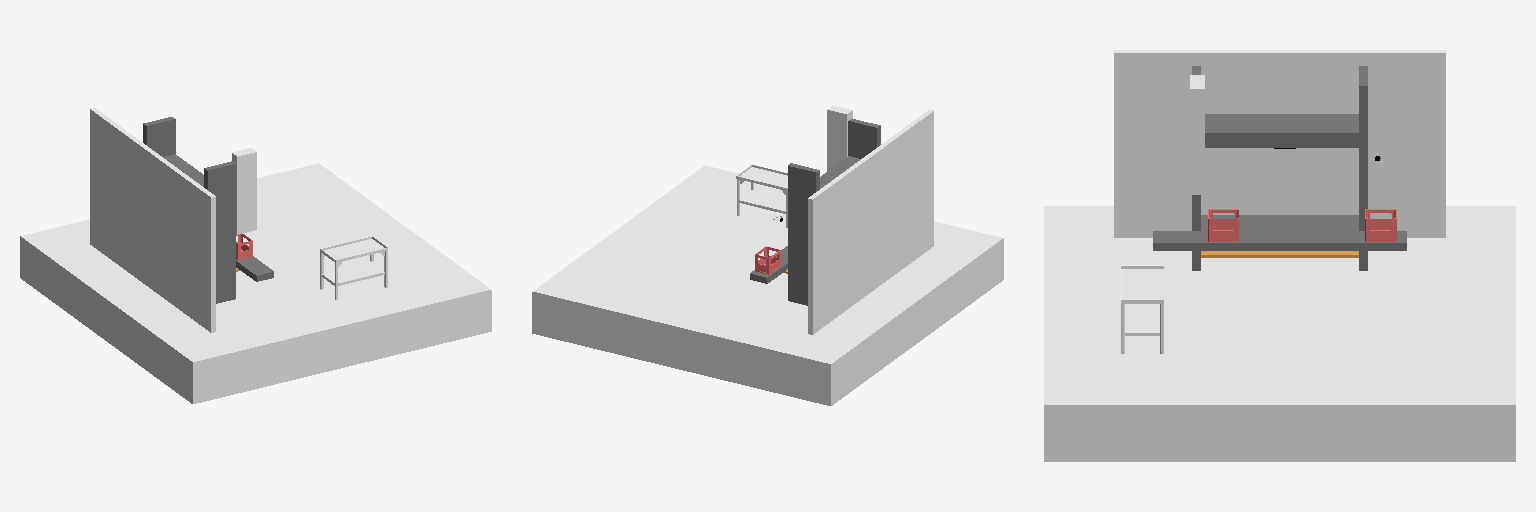
--- Render facts (derived) ---
3 views of the same robot in one strip: view 1: azimuth 30°, elevation 25°; view 2: azimuth 150°, elevation 25°; view 3: azimuth 270°, elevation 25° (orthographic).
Robot: sharework_cembre_simplified — 49 links, 48 joints (6 revolute, 42 fixed); root link world; default pose: every joint at zero.
Visible links, largest first — view 1: floor, wall, left_column, working_table_with_wheels_link, screwdriver_holder, right_column, rail; view 2: floor, wall, right_column, working_table_with_wheels_link, screwdriver_holder, left_column, human_box_link; view 3: floor, wall, rail, upper_beam, working_table_with_wheels_link, lower_beam, screwdriver_holder, right_column, table, guide_fixed, human_box_link, robot_box_link (+1 smaller).
Boxes of the visible links, x1,y1,x2,y2 form: floor: (20,163,491,403); wall: (90,107,215,332); left_column: (204,161,235,303); working_table_with_wheels_link: (320,236,387,299); screwdriver_holder: (232,148,256,234); right_column: (143,117,175,156); rail: (236,256,273,281); floor: (532,165,1003,405); wall: (808,109,933,334); right_column: (788,163,819,305); working_table_with_wheels_link: (736,165,787,227); screwdriver_holder: (827,106,852,170); left_column: (848,119,880,158); human_box_link: (755,246,780,274); floor: (1044,206,1515,461); wall: (1114,50,1445,237); rail: (1153,231,1406,250); upper_beam: (1205,114,1358,141); working_table_with_wheels_link: (1121,265,1163,353); lower_beam: (1201,215,1358,230); screwdriver_holder: (1190,75,1204,194); right_column: (1359,66,1367,270); table: (1201,251,1358,257); guide_fixed: (1205,142,1358,147); human_box_link: (1365,209,1396,241); robot_box_link: (1208,209,1238,241).
Bounding box of the posed robot: 6 × 6 × 3.56 m (x, y, z).
Meshes: 14 distinct files referenced, 3 mesh visuals loaded (2 binary STL); not drawn: 16 (reference not matched to a file when rendering).

The robot description file, URDF, robot "sharework_cembre_simplified":
<?xml version="1.0" ?>
<!-- =================================================================================== -->
<!-- |    This document was autogenerated by xacro from [local-path]/projects/cells_ws/src/hrc_case_study_cell/hrc_case_study/hrc_case_study_descriptions/urdf/sharework_cembre_simplified.xacro | -->
<!-- |    EDITING THIS FILE BY HAND IS NOT RECOMMENDED                                 | -->
<!-- =================================================================================== -->
<robot name="sharework_cembre_simplified">
    <material name="aluminum">
        <color rgba="0.5 0.5 0.5 1" />
    </material>
    <material name="plastic">
        <color rgba="0.1 0.1 0.1 1" />
    </material>
    <!-- <xacro:include filename="$(find robotiq_2f_85_gripper_visualization)/urdf/robotiq_arg2f_85_model_macro.xacro" /> -->
    <link name="world" />
    <joint name="base_to_right_leg" type="fixed">
        <parent link="world" />
        <child link="portal" />
        <origin xyz="0 0 0" />
    </joint>
    <!-- PORTAL -->
    <link name="portal" />
    <joint name="portal_to_right_column" type="fixed">
        <parent link="world" />
        <child link="right_column" />
        <origin xyz="-0.58 1.0 0" />
    </joint>
    <joint name="portal_to_left_column" type="fixed">
        <parent link="world" />
        <child link="left_column" />
        <origin xyz="-0.58 -1.0 0" />
    </joint>
    <link name="right_column">
        <visual>
            <origin rpy="0 0 0" xyz="0.29 0.06 1.5" />
            <geometry>
                <box size="0.58 0.12 3.0" />
            </geometry>
            <material name="Grey">
                <color rgba="0.517647058823529 0.529411764705882 0.537254901960784 1" />
            </material>
        </visual>
        <collision>
            <origin rpy="0 0 0" xyz="0.29 0.06 1.5" />
            <geometry>
                <box size="0.6599999999999999 0.2 3.0" />
            </geometry>
            <material name="Grey">
                <color rgba="0.517647058823529 0.529411764705882 0.537254901960784 1" />
            </material>
        </collision>
        <inertial>
            <mass value="0.1" />
            <origin xyz="0 0 0" rpy="0 0 0" />
            <inertia ixx="0.03" iyy="0.03" izz="0.03" ixy="0.0" ixz="0.0" iyz="0.0" />
        </inertial>
    </link>
    <link name="left_column">
        <visual>
            <origin rpy="0 0 0" xyz="0.29 -0.06 1.5" />
            <geometry>
                <box size="0.58 0.12 3.0" />
            </geometry>
            <material name="Grey">
                <color rgba="0.517647058823529 0.529411764705882 0.537254901960784 1" />
            </material>
        </visual>
        <collision>
            <origin rpy="0 0 0" xyz="0.29 -0.06 1.5" />
            <geometry>
                <box size="0.6599999999999999 0.2 3.0" />
            </geometry>
            <material name="Grey">
                <color rgba="0.517647058823529 0.529411764705882 0.537254901960784 1" />
            </material>
        </collision>
        <inertial>
            <mass value="0.1" />
            <origin xyz="0 0 0" rpy="0 0 0" />
            <inertia ixx="0.03" iyy="0.03" izz="0.03" ixy="0.0" ixz="0.0" iyz="0.0" />
        </inertial>
    </link>
    <joint name="portal_to_lower_beam" type="fixed">
        <parent link="world" />
        <child link="lower_beam" />
        <origin xyz="-0.58 0 0.895" />
    </joint>
    <link name="lower_beam">
        <visual>
            <origin rpy="0 0 0" xyz="0.29 0 -0.048" />
            <geometry>
                <box size="0.58 2.0 0.12" />
            </geometry>
            <material name="Grey">
                <color rgba="0.517647058823529 0.529411764705882 0.537254901960784 1" />
            </material>
        </visual>
        <collision>
            <origin rpy="0 0 0" xyz="0.29 0 -0.048" />
            <geometry>
                <box size="0.58 2.0 0.12" />
            </geometry>
            <material name="Grey">
                <color rgba="0.517647058823529 0.529411764705882 0.537254901960784 1" />
            </material>
        </collision>
        <inertial>
            <mass value="0.1" />
            <origin xyz="0 0 0" rpy="0 0 0" />
            <inertia ixx="0.03" iyy="0.03" izz="0.03" ixy="0.0" ixz="0.0" iyz="0.0" />
        </inertial>
    </link>
    <joint name="portal_to_upper_beam" type="fixed">
        <parent link="world" />
        <child link="upper_beam" />
        <origin xyz="-0.58 0 2.208" />
    </joint>
    <link name="upper_beam">
        <visual>
            <origin rpy="0 0 0" xyz="0.29 0 0.06" />
            <geometry>
                <box size="0.58 2.0 0.12" />
            </geometry>
            <material name="Grey">
                <color rgba="0.517647058823529 0.529411764705882 0.537254901960784 1" />
            </material>
        </visual>
        <collision>
            <origin rpy="0 0 0" xyz="0.29 0 0.06" />
            <geometry>
                <box size="0.58 2.0 0.12" />
            </geometry>
            <material name="Grey">
                <color rgba="0.517647058823529 0.529411764705882 0.537254901960784 1" />
            </material>
        </collision>
        <inertial>
            <mass value="0.1" />
            <origin xyz="0 0 0" rpy="0 0 0" />
            <inertia ixx="0.03" iyy="0.03" izz="0.03" ixy="0.0" ixz="0.0" iyz="0.0" />
        </inertial>
    </link>
    <!-- guide -->
    <joint name="upper_beam_guide" type="fixed">
        <parent link="upper_beam" />
        <child link="guide_fixed" />
        <origin xyz="0.325 -1.0 -0.14" />
    </joint>
    <link name="guide_fixed">
        <visual>
            <origin rpy="0 0 0" xyz="0 1.0 0.07" />
            <geometry>
                <box size="0.28 2.0 0.14" />
            </geometry>
            <material name="Grey">
                <color rgba="0.517647058823529 0.529411764705882 0.537254901960784 1" />
            </material>
        </visual>
        <collision>
            <origin rpy="0 0 0" xyz="0 1.0 0.07" />
            <geometry>
                <box size="0.5800000000000001 2.0 0.14" />
            </geometry>
            <material name="Grey">
                <color rgba="0.517647058823529 0.529411764705882 0.537254901960784 1" />
            </material>
        </collision>
        <inertial>
            <mass value="0.1" />
            <origin xyz="0 0 0" rpy="0 0 0" />
            <inertia ixx="0.03" iyy="0.03" izz="0.03" ixy="0.0" ixz="0.0" iyz="0.0" />
        </inertial>
    </link>
    <joint name="track_joint" type="fixed">
        <parent link="guide_fixed" />
        <child link="cursor" />
        <origin xyz="0 1.061 -0.01" />
        <limit effort="1000.0" lower="0" upper="1.4" velocity="0.5" />
        <axis xyz="0 1 0" />
    </joint>
    <link name="cursor">
        <visual>
            <origin rpy="0 0 0" xyz="0 0 0.005" />
            <geometry>
                <box size="0.28 0.28 0.01" />
            </geometry>
            <material name="DarkGrey">
                <color rgba="0.1 0.1 0.1 1" />
            </material>
        </visual>
        <collision>
            <origin rpy="0 0 0" xyz="0 0 0.005" />
            <geometry>
                <box size="0.28 0.28 0.01" />
            </geometry>
            <material name="DarkGrey">
                <color rgba="0.1 0.1 0.1 1" />
            </material>
        </collision>
        <inertial>
            <mass value="0.1" />
            <origin xyz="0 0 0" rpy="0 0 0" />
            <inertia ixx="0.03" iyy="0.03" izz="0.03" ixy="0.0" ixz="0.0" iyz="0.0" />
        </inertial>
    </link>
    <!-- TABLE -->
    <joint name="portal_to_table" type="fixed">
        <parent link="world" />
        <child link="table" />
        <origin xyz="0 -1.0 0.895" />
    </joint>
    <link name="table">
        <visual>
            <origin rpy="0 0 0" xyz="0.3 1.0 -0.02" />
            <geometry>
                <box size="0.6 2.0 0.04" />
            </geometry>
            <material name="Beech">
                <color rgba="0.952941176470588 0.694117647058823 0.392156862745098 1" />
            </material>
        </visual>
        <collision>
            <origin rpy="0 0 0" xyz="0.3 1.0 -0.02" />
            <geometry>
                <box size="0.6 2.0 0.04" />
            </geometry>
            <material name="Beech">
                <color rgba="0.952941176470588 0.694117647058823 0.392156862745098 1" />
            </material>
        </collision>
        <inertial>
            <mass value="0.1" />
            <origin xyz="0 0 0" rpy="0 0 0" />
            <inertia ixx="0.03" iyy="0.03" izz="0.03" ixy="0.0" ixz="0.0" iyz="0.0" />
        </inertial>
    </link>
    <joint name="table_to_rail" type="fixed">
        <parent link="table" />
        <child link="rail" />
        <origin xyz="0.3 -0.6120000000000001 0.12" />
    </joint>
    <link name="rail">
        <visual>
            <origin rpy="0 0 0" xyz="0 1.612 -0.06" />
            <geometry>
                <box size="0.36 3.224 0.12" />
            </geometry>
            <material name="Grey">
                <color rgba="0.517647058823529 0.529411764705882 0.537254901960784 1" />
            </material>
        </visual>
        <collision>
            <origin rpy="0 0 0" xyz="0 1.612 -0.06" />
            <geometry>
                <box size="0.36 3.224 0.12" />
            </geometry>
            <material name="Grey">
                <color rgba="0.517647058823529 0.529411764705882 0.537254901960784 1" />
            </material>
        </collision>
        <inertial>
            <mass value="0.1" />
            <origin xyz="0 0 0" rpy="0 0 0" />
            <inertia ixx="0.03" iyy="0.03" izz="0.03" ixy="0.0" ixz="0.0" iyz="0.0" />
        </inertial>
    </link>
    <!--
    Base UR robot series xacro macro.

    NOTE: this is NOT a URDF. It cannot directly be loaded by consumers
    expecting a flattened '.urdf' file. See the top-level '.xacro' for that
    (but note: that .xacro must still be processed by the xacro command).

    For use in '.launch' files: use one of the 'load_urX.launch' convenience
    launch files.

    This file models the base kinematic chain of a UR robot, which then gets
    parameterised by various configuration files to convert it into a UR3(e),
    UR5(e), UR10(e) or UR16e.

    NOTE: the default kinematic parameters (ie: link lengths, frame locations,
    offets, etc) do not correspond to any particular robot. They are defaults
    only. There WILL be non-zero offsets between the Forward Kinematics results
    in TF (ie: robot_state_publisher) and the values reported by the Teach
    Pendant.

    For accurate (and robot-specific) transforms, the 'kinematics_parameters_file'
    parameter MUST point to a .yaml file containing the appropriate values for
    the targetted robot.

    If using the UniversalRobots/Universal_Robots_ROS_Driver, follow the steps
    described in the readme of that repository to extract the kinematic
    calibration from the controller and generate the required .yaml file.

    Main author of the migration to yaml configs: Ludovic Delval.

    Contributors to previous versions (in no particular order):

     - Felix Messmer
     - Kelsey Hawkins
     - Wim Meeussen
     - Shaun Edwards
     - Nadia Hammoudeh Garcia
     - Dave Hershberger
     - G. vd. Hoorn
     - Philip Long
     - Dave Coleman
     - Miguel Prada
     - Mathias Luedtke
     - Marcel Schnirring
     - Felix von Drigalski
     - Felix Exner
     - Jimmy Da Silva
     - Ajit Krisshna N L
     - Muhammad Asif Rana
  -->
    <!--
    NOTE: the macro defined in this file is NOT part of the public API of this
          package. Users CANNOT rely on this file being available, or stored in
          this location. Nor can they rely on the existence of the macro.
  -->
    <transmission name="shoulder_pan_trans">
        <type>transmission_interface/SimpleTransmission</type>
        <joint name="shoulder_pan_joint">
            <hardwareInterface>hardware_interface/PositionJointInterface</hardwareInterface>
        </joint>
        <actuator name="shoulder_pan_motor">
            <mechanicalReduction>1</mechanicalReduction>
            <hardwareInterface>hardware_interface/EffortJointInterface</hardwareInterface>
        </actuator>
    </transmission>
    <transmission name="shoulder_lift_trans">
        <type>transmission_interface/SimpleTransmission</type>
        <joint name="shoulder_lift_joint">
            <hardwareInterface>hardware_interface/PositionJointInterface</hardwareInterface>
        </joint>
        <actuator name="shoulder_lift_motor">
            <mechanicalReduction>1</mechanicalReduction>
            <hardwareInterface>hardware_interface/EffortJointInterface</hardwareInterface>
        </actuator>
    </transmission>
    <transmission name="elbow_trans">
        <type>transmission_interface/SimpleTransmission</type>
        <joint name="elbow_joint">
            <hardwareInterface>hardware_interface/PositionJointInterface</hardwareInterface>
        </joint>
        <actuator name="elbow_motor">
            <mechanicalReduction>1</mechanicalReduction>
            <hardwareInterface>hardware_interface/EffortJointInterface</hardwareInterface>
        </actuator>
    </transmission>
    <transmission name="wrist_1_trans">
        <type>transmission_interface/SimpleTransmission</type>
        <joint name="wrist_1_joint">
            <hardwareInterface>hardware_interface/PositionJointInterface</hardwareInterface>
        </joint>
        <actuator name="wrist_1_motor">
            <mechanicalReduction>1</mechanicalReduction>
            <hardwareInterface>hardware_interface/EffortJointInterface</hardwareInterface>
        </actuator>
    </transmission>
    <transmission name="wrist_2_trans">
        <type>transmission_interface/SimpleTransmission</type>
        <joint name="wrist_2_joint">
            <hardwareInterface>hardware_interface/PositionJointInterface</hardwareInterface>
        </joint>
        <actuator name="wrist_2_motor">
            <mechanicalReduction>1</mechanicalReduction>
            <hardwareInterface>hardware_interface/EffortJointInterface</hardwareInterface>
        </actuator>
    </transmission>
    <transmission name="wrist_3_trans">
        <type>transmission_interface/SimpleTransmission</type>
        <joint name="wrist_3_joint">
            <hardwareInterface>hardware_interface/PositionJointInterface</hardwareInterface>
        </joint>
        <actuator name="wrist_3_motor">
            <mechanicalReduction>1</mechanicalReduction>
            <hardwareInterface>hardware_interface/EffortJointInterface</hardwareInterface>
        </actuator>
    </transmission>
    <!-- links: main serial chain -->
    <link name="base_link" />
    <link name="base_link_inertia">
        <visual>
            <origin rpy="0 0 3.141592653589793" xyz="0 0 0" />
            <geometry>
                <mesh filename="package://ur_description/meshes/ur10e/visual/base.dae" />
            </geometry>
            <material name="LightGrey">
                <color rgba="0.7 0.7 0.7 1.0" />
            </material>
        </visual>
        <collision>
            <origin rpy="0 0 3.141592653589793" xyz="0 0 0" />
            <geometry>
                <mesh filename="package://ur_simplified_description/meshes/ur10e/collision/base.STL" />
            </geometry>
        </collision>
        <inertial>
            <mass value="4.0" />
            <origin rpy="0 0 0" xyz="0 0 0" />
            <inertia ixx="0.0061063308908" ixy="0.0" ixz="0.0" iyy="0.0061063308908" iyz="0.0" izz="0.01125" />
        </inertial>
    </link>
    <link name="shoulder_link">
        <visual>
            <origin rpy="0 0 3.141592653589793" xyz="0 0 0" />
            <geometry>
                <mesh filename="package://ur_description/meshes/ur10e/visual/shoulder.dae" />
            </geometry>
            <material name="LightGrey">
                <color rgba="0.7 0.7 0.7 1.0" />
            </material>
        </visual>
        <collision>
            <origin rpy="0 0 3.141592653589793" xyz="0 0 0" />
            <geometry>
                <mesh filename="package://ur_simplified_description/meshes/ur10e/collision/shoulder.STL" />
            </geometry>
        </collision>
        <inertial>
            <mass value="7.778" />
            <origin rpy="0 0 0" xyz="0 0 0" />
            <inertia ixx="0.03147431257693659" ixy="0.0" ixz="0.0" iyy="0.03147431257693659" iyz="0.0" izz="0.021875624999999996" />
        </inertial>
    </link>
    <link name="upper_arm_link">
        <visual>
            <origin rpy="1.5707963267948966 0 -1.5707963267948966" xyz="0 0 0.1762" />
            <geometry>
                <mesh filename="package://ur_description/meshes/ur10e/visual/upperarm.dae" />
            </geometry>
            <material name="LightGrey">
                <color rgba="0.7 0.7 0.7 1.0" />
            </material>
        </visual>
        <collision>
            <origin rpy="1.5707963267948966 0 -1.5707963267948966" xyz="0 0 0.1762" />
            <geometry>
                <mesh filename="package://ur_simplified_description/meshes/ur10e/collision/upperarm.STL" />
            </geometry>
        </collision>
        <inertial>
            <mass value="12.93" />
            <origin rpy="0 1.5707963267948966 0" xyz="-0.306 0.0 0.175" />
            <inertia ixx="0.42175380379841093" ixy="0.0" ixz="0.0" iyy="0.42175380379841093" iyz="0.0" izz="0.03636562499999999" />
        </inertial>
    </link>
    <link name="forearm_link">
        <visual>
            <origin rpy="1.5707963267948966 0 -1.5707963267948966" xyz="0 0 0.0393" />
            <geometry>
                <mesh filename="package://ur_description/meshes/ur10e/visual/forearm.dae" />
            </geometry>
            <material name="LightGrey">
                <color rgba="0.7 0.7 0.7 1.0" />
            </material>
        </visual>
        <collision>
            <origin rpy="1.5707963267948966 0 -1.5707963267948966" xyz="0 0 0.0393" />
            <geometry>
                <mesh filename="package://ur_simplified_description/meshes/ur10e/collision/forearm.STL" />
            </geometry>
        </collision>
        <inertial>
            <mass value="3.87" />
            <origin rpy="0 1.5707963267948966 0" xyz="-0.285775 0.0 0.0393" />
            <inertia ixx="0.11079302548902206" ixy="0.0" ixz="0.0" iyy="0.11079302548902206" iyz="0.0" izz="0.010884375" />
        </inertial>
    </link>
    <link name="wrist_1_link">
        <visual>
            <!-- TODO: Move this to a parameter -->
            <origin rpy="1.5707963267948966 0 0" xyz="0 0 -0.135" />
            <geometry>
                <mesh filename="package://ur_description/meshes/ur10e/visual/wrist1.dae" />
            </geometry>
            <material name="LightGrey">
                <color rgba="0.7 0.7 0.7 1.0" />
            </material>
        </visual>
        <collision>
            <origin rpy="1.5707963267948966 0 0" xyz="0 0 -0.135" />
            <geometry>
                <mesh filename="package://ur_simplified_description/meshes/ur10e/collision/wrist1.STL" />
            </geometry>
        </collision>
        <inertial>
            <mass value="1.96" />
            <origin rpy="0 0 0" xyz="0 0 0" />
            <inertia ixx="0.005108247956699999" ixy="0.0" ixz="0.0" iyy="0.005108247956699999" iyz="0.0" izz="0.005512499999999999" />
        </inertial>
    </link>
    <link name="wrist_2_link">
        <visual>
            <origin rpy="0 0 0" xyz="0 0 -0.12" />
            <geometry>
                <mesh filename="package://ur_description/meshes/ur10e/visual/wrist2.dae" />
            </geometry>
            <material name="LightGrey">
                <color rgba="0.7 0.7 0.7 1.0" />
            </material>
        </visual>
        <collision>
            <origin rpy="0 0 0" xyz="0 0 -0.12" />
            <geometry>
                <mesh filename="package://ur_simplified_description/meshes/ur10e/collision/wrist2.STL" />
            </geometry>
        </collision>
        <inertial>
            <mass value="1.96" />
            <origin rpy="0 0 0" xyz="0 0 0" />
            <inertia ixx="0.005108247956699999" ixy="0.0" ixz="0.0" iyy="0.005108247956699999" iyz="0.0" izz="0.005512499999999999" />
        </inertial>
    </link>
    <link name="wrist_3_link">
        <visual>
            <origin rpy="1.5707963267948966 0 0" xyz="0 0 -0.1168" />
            <geometry>
                <mesh filename="package://ur_description/meshes/ur10e/visual/wrist3.dae" />
            </geometry>
            <material name="LightGrey">
                <color rgba="0.7 0.7 0.7 1.0" />
            </material>
        </visual>
        <collision>
            <origin rpy="1.5707963267948966 0 0" xyz="0 0 -0.1168" />
            <geometry>
                <mesh filename="package://ur_simplified_description/meshes/ur10e/collision/wrist3.STL" />
            </geometry>
        </collision>
        <inertial>
            <mass value="0.202" />
            <origin rpy="0 0 0" xyz="0.0 0.0 -0.025" />
            <inertia ixx="0.00014434577559500002" ixy="0.0" ixz="0.0" iyy="0.00014434577559500002" iyz="0.0" izz="0.00020452500000000002" />
        </inertial>
    </link>
    <!-- joints: main serial chain -->
    <joint name="base_link-base_link_inertia" type="fixed">
        <parent link="base_link" />
        <child link="base_link_inertia" />
        <!-- 'base_link' is REP-103 aligned (so X+ forward), while the internal
           frames of the robot/controller have X+ pointing backwards.
           Use the joint between 'base_link' and 'base_link_inertia' (a dummy
           link/frame) to introduce the necessary rotation over Z (of pi rad).
      -->
        <origin rpy="0 0 3.141592653589793" xyz="0 0 0" />
    </joint>
    <joint name="shoulder_pan_joint" type="revolute">
        <parent link="base_link_inertia" />
        <child link="shoulder_link" />
        <origin rpy="0 0 -5.681537116101164e-08" xyz="0 0 0.1812369595612139" />
        <axis xyz="0 0 1" />
        <limit effort="330.0" lower="-3.141592653589793" upper="3.141592653589793" velocity="2.0943951023931953" />
        <dynamics damping="0" friction="0" />
    </joint>
    <joint name="shoulder_lift_joint" type="revolute">
        <parent link="shoulder_link" />
        <child link="upper_arm_link" />
        <origin rpy="1.571234322931965 0 -2.65322894683893e-06" xyz="-8.792654051589253e-05 0 0" />
        <axis xyz="0 0 1" />
        <limit effort="330.0" lower="-3.141592653589793" upper="0.05235987755982989" velocity="2.0943951023931953" />
        <dynamics damping="0" friction="0" />
    </joint>
    <joint name="elbow_joint" type="revolute">
        <parent link="upper_arm_link" />
        <child link="forearm_link" />
        <origin rpy="0.0006685683672481053 0.0009626857853689462 2.732284048217955e-06" xyz="-0.6121801947349813 0 0" />
        <axis xyz="0 0 1" />
        <limit effort="150.0" lower="-3.141592653589793" upper="3.141592653589793" velocity="3.141592653589793" />
        <dynamics damping="0" friction="0" />
    </joint>
    <joint name="wrist_1_joint" type="revolute">
        <parent link="forearm_link" />
        <child link="wrist_1_link" />
        <origin rpy="3.139891413463903 3.140677396542519 3.141591156697404" xyz="-0.5709010104944168 0.0002966689356048516 0.1743837597536871" />
        <axis xyz="0 0 1" />
        <limit effort="56.0" lower="-6.283185307179586" upper="6.283185307179586" velocity="3.141592653589793" />
        <dynamics damping="0" friction="0" />
    </joint>
    <joint name="wrist_2_joint" type="revolute">
        <parent link="wrist_1_link" />
        <child link="wrist_2_link" />
        <origin rpy="1.57098614732238 0 1.097571004999014e-06" xyz="4.867185823864961e-05 -0.1198472927249651 -2.274947659575111e-05" />
        <axis xyz="0 0 1" />
        <limit effort="56.0" lower="-6.283185307179586" upper="6.283185307179586" velocity="3.141592653589793" />
        <dynamics damping="0" friction="0" />
    </joint>
    <joint name="wrist_3_joint" type="revolute">
        <parent link="wrist_2_link" />
        <child link="wrist_3_link" />
        <origin rpy="1.57076096219631 3.141592653589793 3.141592581057134" xyz="-0.0001284994478715255 0.1156303551619035 -4.089221096405905e-06" />
        <axis xyz="0 0 1" />
        <limit effort="56.0" lower="-6.283185307179586" upper="6.283185307179586" velocity="3.141592653589793" />
        <dynamics damping="0" friction="0" />
    </joint>
    <!-- ROS-Industrial 'base' frame: base_link to UR 'Base' Coordinates transform -->
    <link name="base" />
    <joint name="base_link-base_fixed_joint" type="fixed">
        <!-- Note the rotation over Z of pi radians: as base_link is REP-103
           aligned (ie: has X+ forward, Y+ left and Z+ up), this is needed
           to correctly align 'base' with the 'Base' coordinate system of
           the UR controller.
      -->
        <origin rpy="0 0 3.141592653589793" xyz="0 0 0" />
        <parent link="base_link" />
        <child link="base" />
    </joint>
    <!-- ROS-Industrial 'flange' frame: attachment point for EEF models -->
    <link name="flange" />
    <joint name="wrist_3-flange" type="fixed">
        <parent link="wrist_3_link" />
        <child link="flange" />
        <origin rpy="0 -1.5707963267948966 -1.5707963267948966" xyz="0 0 0" />
    </joint>
    <!-- ROS-Industrial 'tool0' frame: all-zeros tool frame -->
    <link name="tool0" />
    <joint name="flange-tool0" type="fixed">
        <!-- default toolframe: X+ left, Y+ up, Z+ front -->
        <origin rpy="1.5707963267948966 0 1.5707963267948966" xyz="0 0 0" />
        <parent link="flange" />
        <child link="tool0" />
    </joint>
    <link name="robotiq_arg2f_base_link">
        <!-- <inertial>
        <origin xyz="8.625E-08 -4.6583E-06 0.03145" rpy="0 0 0" />
        <mass value="0.22652" />
        <inertia ixx="0.00020005" ixy="-4.2442E-10" ixz="-2.9069E-10" iyy="0.00017832" iyz="-3.4402E-08" izz="0.00013478" />
      </inertial> -->
        <visual>
            <origin rpy="0 0 0" xyz="0 0 0" />
            <geometry>
                <mesh filename="package://robotiq_2f_85_gripper_visualization/meshes/visual/robotiq_arg2f_85_base_link.dae" scale="0.001 0.001 0.001" />
            </geometry>
            <material name="">
                <color rgba="0.1 0.1 0.1 1" />
            </material>
        </visual>
        <!-- <collision>
        <geometry>
          <cylinder length="0.0" radius="0.0"/>         
        </geometry>
      </collision> -->
    </link>
    <link name="left_outer_knuckle">
        <!--<inertial>
        <origin xyz="-0.000200000000003065 0.0199435877845359 0.0292245259211331" rpy="0 0 0" />
        <mass value="0.00853198276973456" />
        <inertia ixx="2.89328108496468E-06" ixy="-1.57935047237397E-19" ixz="-1.93980378593255E-19" iyy="1.86719750325683E-06" iyz="-1.21858577871576E-06" izz="1.21905238907251E-06" />
        </inertial> -->
        <visual>
            <origin rpy="0 0 0" xyz="0 0 0" />
            <geometry>
                <mesh filename="package://robotiq_2f_85_gripper_visualization/meshes/visual/robotiq_arg2f_85_outer_knuckle.dae" scale="0.001 0.001 0.001" />
            </geometry>
            <material name="">
                <color rgba="0.792156862745098 0.819607843137255 0.933333333333333 1" />
            </material>
        </visual>
        <!-- <collision>
        <geometry>
          <cylinder length="0.0" radius="0.0"/>          
            <cylinder length="0.0" radius="0.0"/>         
        </geometry>
      </collision> -->
    </link>
    <link name="left_outer_finger">
        <!--<inertial>
        <origin xyz="0.00030115855001899 0.0373907951953854 -0.0208027427000385" rpy="0 0 0" />
        <mass value="0.022614240507152" />
        <inertia ixx="1.52518312458174E-05" ixy="9.76583423954399E-10" ixz="-5.43838577022588E-10" iyy="6.17694243867776E-06" iyz="6.78636130740228E-06" izz="1.16494917907219E-05" />
        </inertial> -->
        <visual>
            <origin rpy="0 0 0" xyz="0 0 0" />
            <geometry>
                <mesh filename="package://robotiq_2f_85_gripper_visualization/meshes/visual/robotiq_arg2f_85_outer_finger.dae" scale="0.001 0.001 0.001" />
            </geometry>
            <material name="">
                <color rgba="0.1 0.1 0.1 1" />
            </material>
        </visual>
        <!-- <collision>
        <geometry>
            <cylinder length="0.0" radius="0.0"/>        
        </geometry>
      </collision> -->
    </link>
    <link name="left_inner_finger">
        <!--<inertial>
        <origin xyz="0.000299999999999317 0.0160078233491243 -0.0136945669206257" rpy="0 0 0" />
        <mass value="0.0104003125914103" />
        <inertia ixx="2.71909453810972E-06" ixy="1.35402465472579E-21" ixz="-7.1817349065269E-22" iyy="7.69100314106116E-07" iyz="6.74715432769696E-07" izz="2.30315190420171E-06" />
        </inertial> -->
        <visual>
            <origin rpy="0 0 0" xyz="0 0 0" />
            <geometry>
                <mesh filename="package://robotiq_2f_85_gripper_visualization/meshes/visual/robotiq_arg2f_85_inner_finger.dae" scale="0.001 0.001 0.001" />
            </geometry>
            <material name="">
                <color rgba="0.1 0.1 0.1 1" />
            </material>
        </visual>
        <!-- <collision>
        <geometry>
          <cylinder length="0.0" radius="0.0"/>         
        </geometry>
      </collision> -->
    </link>
    <link name="left_inner_finger_pad">
        <visual>
            <origin rpy="0 0 0" xyz="0 0 0" />
            <geometry>
                <box size="0.022 0.00635 0.0375" />
            </geometry>
            <material name="">
                <color rgba="0.9 0.9 0.9 1" />
            </material>
        </visual>
        <!-- <collision>
        <geometry>
          <cylinder length="0.0" radius="0.0"/>      
        </geometry>
      </collision> -->
    </link>
    <link name="left_inner_knuckle">
        <!--<inertial>
        <origin xyz="0.000123011831763771 0.0507850843201817 0.00103968640075166" rpy="0 0 0" />
       <mass value="0.0271177346495152" />
        <inertia ixx="2.61910379223783E-05" ixy="-2.43616858946494E-07" ixz="-6.37789906117123E-09" iyy="2.8270243746167E-06" iyz="-5.37200748039765E-07" izz="2.83695868220296E-05" />
        </inertial> -->
        <visual>
            <origin rpy="0 0 0" xyz="0 0 0" />
            <geometry>
                <mesh filename="package://robotiq_2f_85_gripper_visualization/meshes/visual/robotiq_arg2f_85_inner_knuckle.dae" scale="0.001 0.001 0.001" />
            </geometry>
            <material name="">
                <color rgba="0.1 0.1 0.1 1" />
            </material>
        </visual>
        <!-- <collision>
        <geometry>
          <cylinder length="0.0" radius="0.0"/>         
        </geometry>
      </collision>  -->
    </link>
    <link name="right_outer_knuckle">
        <!--<inertial>
        <origin xyz="-0.000200000000003065 0.0199435877845359 0.0292245259211331" rpy="0 0 0" />
        <mass value="0.00853198276973456" />
        <inertia ixx="2.89328108496468E-06" ixy="-1.57935047237397E-19" ixz="-1.93980378593255E-19" iyy="1.86719750325683E-06" iyz="-1.21858577871576E-06" izz="1.21905238907251E-06" />
        </inertial> -->
        <visual>
            <origin rpy="0 0 0" xyz="0 0 0" />
            <geometry>
                <mesh filename="package://robotiq_2f_85_gripper_visualization/meshes/visual/robotiq_arg2f_85_outer_knuckle.dae" scale="0.001 0.001 0.001" />
            </geometry>
            <material name="">
                <color rgba="0.792156862745098 0.819607843137255 0.933333333333333 1" />
            </material>
        </visual>
        <!-- <collision>
        <geometry>
          <cylinder length="0.0" radius="0.0"/>          
            <cylinder length="0.0" radius="0.0"/>         
        </geometry>
      </collision> -->
    </link>
    <link name="right_outer_finger">
        <!--<inertial>
        <origin xyz="0.00030115855001899 0.0373907951953854 -0.0208027427000385" rpy="0 0 0" />
        <mass value="0.022614240507152" />
        <inertia ixx="1.52518312458174E-05" ixy="9.76583423954399E-10" ixz="-5.43838577022588E-10" iyy="6.17694243867776E-06" iyz="6.78636130740228E-06" izz="1.16494917907219E-05" />
        </inertial> -->
        <visual>
            <origin rpy="0 0 0" xyz="0 0 0" />
            <geometry>
                <mesh filename="package://robotiq_2f_85_gripper_visualization/meshes/visual/robotiq_arg2f_85_outer_finger.dae" scale="0.001 0.001 0.001" />
            </geometry>
            <material name="">
                <color rgba="0.1 0.1 0.1 1" />
            </material>
        </visual>
        <!-- <collision>
        <geometry>
            <cylinder length="0.0" radius="0.0"/>        
        </geometry>
      </collision> -->
    </link>
    <link name="right_inner_finger">
        <!--<inertial>
        <origin xyz="0.000299999999999317 0.0160078233491243 -0.0136945669206257" rpy="0 0 0" />
        <mass value="0.0104003125914103" />
        <inertia ixx="2.71909453810972E-06" ixy="1.35402465472579E-21" ixz="-7.1817349065269E-22" iyy="7.69100314106116E-07" iyz="6.74715432769696E-07" izz="2.30315190420171E-06" />
        </inertial> -->
        <visual>
            <origin rpy="0 0 0" xyz="0 0 0" />
            <geometry>
                <mesh filename="package://robotiq_2f_85_gripper_visualization/meshes/visual/robotiq_arg2f_85_inner_finger.dae" scale="0.001 0.001 0.001" />
            </geometry>
            <material name="">
                <color rgba="0.1 0.1 0.1 1" />
            </material>
        </visual>
        <!-- <collision>
        <geometry>
          <cylinder length="0.0" radius="0.0"/>         
        </geometry>
      </collision> -->
    </link>
    <link name="right_inner_finger_pad">
        <visual>
            <origin rpy="0 0 0" xyz="0 0 0" />
            <geometry>
                <box size="0.022 0.00635 0.0375" />
            </geometry>
            <material name="">
                <color rgba="0.9 0.9 0.9 1" />
            </material>
        </visual>
        <!-- <collision>
        <geometry>
          <cylinder length="0.0" radius="0.0"/>      
        </geometry>
      </collision> -->
    </link>
    <link name="right_inner_knuckle">
        <!--<inertial>
        <origin xyz="0.000123011831763771 0.0507850843201817 0.00103968640075166" rpy="0 0 0" />
       <mass value="0.0271177346495152" />
        <inertia ixx="2.61910379223783E-05" ixy="-2.43616858946494E-07" ixz="-6.37789906117123E-09" iyy="2.8270243746167E-06" iyz="-5.37200748039765E-07" izz="2.83695868220296E-05" />
        </inertial> -->
        <visual>
            <origin rpy="0 0 0" xyz="0 0 0" />
            <geometry>
                <mesh filename="package://robotiq_2f_85_gripper_visualization/meshes/visual/robotiq_arg2f_85_inner_knuckle.dae" scale="0.001 0.001 0.001" />
            </geometry>
            <material name="">
                <color rgba="0.1 0.1 0.1 1" />
            </material>
        </visual>
        <!-- <collision>
        <geometry>
          <cylinder length="0.0" radius="0.0"/>         
        </geometry>
      </collision>  -->
    </link>
    <joint name="finger_joint" type="fixed">
        <origin rpy="0 0 3.141592653589793" xyz="0 -0.0306011 0.054904" />
        <parent link="robotiq_arg2f_base_link" />
        <child link="left_outer_knuckle" />
        <axis xyz="1 0 0" />
        <limit effort="1000" lower="0" upper="0.8" velocity="2.0" />
    </joint>
    <joint name="left_outer_finger_joint" type="fixed">
        <origin rpy="0 0 0" xyz="0 0.0315 -0.0041" />
        <parent link="left_outer_knuckle" />
        <child link="left_outer_finger" />
        <axis xyz="1 0 0" />
    </joint>
    <joint name="left_inner_knuckle_joint" type="fixed">
        <!-- <origin xyz="0 ${reflect * -0.0127} 0.06142" rpy="${pi / 2 + .725} 0 ${(reflect - 1) * pi / 2}" /> -->
        <origin rpy="0 0 3.141592653589793" xyz="0 -0.0127 0.06142" />
        <parent link="robotiq_arg2f_base_link" />
        <child link="left_inner_knuckle" />
        <axis xyz="1 0 0" />
        <limit effort="1000" lower="0" upper="0.8757" velocity="2.0" />
        <mimic joint="finger_joint" multiplier="1" offset="0" />
    </joint>
    <joint name="left_inner_finger_joint" type="fixed">
        <origin rpy="0 0 0" xyz="0 0.0061 0.0471" />
        <parent link="left_outer_finger" />
        <child link="left_inner_finger" />
        <axis xyz="1 0 0" />
        <limit effort="1000" lower="0" upper="0.8757" velocity="2.0" />
        <mimic joint="finger_joint" multiplier="-1" offset="0" />
    </joint>
    <joint name="left_inner_finger_pad_joint" type="fixed">
        <origin rpy="0 0 0" xyz="0 -0.0220203446692936 0.03242" />
        <parent link="left_inner_finger" />
        <child link="left_inner_finger_pad" />
        <axis xyz="0 0 1" />
    </joint>
    <joint name="right_outer_knuckle_joint" type="fixed">
        <origin rpy="0 0 0" xyz="0 0.0306011 0.054904" />
        <parent link="robotiq_arg2f_base_link" />
        <child link="right_outer_knuckle" />
        <axis xyz="1 0 0" />
        <limit effort="1000" lower="0" upper="0.81" velocity="2.0" />
        <mimic joint="finger_joint" multiplier="1" offset="0" />
    </joint>
    <joint name="right_outer_finger_joint" type="fixed">
        <origin rpy="0 0 0" xyz="0 0.0315 -0.0041" />
        <parent link="right_outer_knuckle" />
        <child link="right_outer_finger" />
        <axis xyz="1 0 0" />
    </joint>
    <joint name="right_inner_knuckle_joint" type="fixed">
        <!-- <origin xyz="0 ${reflect * -0.0127} 0.06142" rpy="${pi / 2 + .725} 0 ${(reflect - 1) * pi / 2}" /> -->
        <origin rpy="0 0 0.0" xyz="0 0.0127 0.06142" />
        <parent link="robotiq_arg2f_base_link" />
        <child link="right_inner_knuckle" />
        <axis xyz="1 0 0" />
        <limit effort="1000" lower="0" upper="0.8757" velocity="2.0" />
        <mimic joint="finger_joint" multiplier="1" offset="0" />
    </joint>
    <joint name="right_inner_finger_joint" type="fixed">
        <origin rpy="0 0 0" xyz="0 0.0061 0.0471" />
        <parent link="right_outer_finger" />
        <child link="right_inner_finger" />
        <axis xyz="1 0 0" />
        <limit effort="1000" lower="0" upper="0.8757" velocity="2.0" />
        <mimic joint="finger_joint" multiplier="-1" offset="0" />
    </joint>
    <joint name="right_inner_finger_pad_joint" type="fixed">
        <origin rpy="0 0 0" xyz="0 -0.0220203446692936 0.03242" />
        <parent link="right_inner_finger" />
        <child link="right_inner_finger_pad" />
        <axis xyz="0 0 1" />
    </joint>
    <transmission name="finger_joint_trans">
        <type>transmission_interface/SimpleTransmission</type>
        <joint name="finger_joint">
            <hardwareInterface>PositionJointInterface</hardwareInterface>
        </joint>
        <actuator name="finger_joint_motor">
            <mechanicalReduction>1</mechanicalReduction>
        </actuator>
    </transmission>
    <!-- gripper -->
    <joint name="rq_coupler_joint" type="fixed">
        <parent link="tool0" />
        <child link="robotiq_coupler" />
        <origin rpy="0 0 1.5707963267948966" xyz="0 0 0.01" />
    </joint>
    <link name="robotiq_coupler">
        <visual>
            <origin rpy="0 0 0" xyz="0 0 0.005" />
            <geometry>
                <cylinder length="0.01" radius="0.0375" />
            </geometry>
            <material name="RobotiqGrey">
                <color rgba="0.1 0.1 0.1 1" />
            </material>
        </visual>
        <collision>
            <origin rpy="0 0 0" xyz="0 0 0.02" />
            <geometry>
                <cylinder length="0.04" radius="0.0375" />
            </geometry>
            <material name="RobotiqGrey">
                <color rgba="0.1 0.1 0.1 1" />
            </material>
        </collision>
        <inertial>
            <mass value="0.5" />
            <inertia ixx="0.1" ixy="0.0" ixz="0.0" iyy="0.1" iyz="0.0" izz="0.4" />
            <origin xyz="0 0 0" rpy="0 0 0" />
        </inertial>
    </link>
    <!-- <xacro:robotiq_arg2f_base_link prefix=""/>
  <xacro:finger_joints prefix=""/>
  <xacro:finger_links prefix=""/>

  <xacro:finger_joints fingerprefix=""/>
  <xacro:finger_joints reflect="1"/>

  <xacro:finger_links fingerprefix=""/>
  <xacro:finger_links stroke="0.05"/> -->
    <joint name="robotiq_joint" type="fixed">
        <parent link="robotiq_coupler" />
        <child link="robotiq_arg2f_base_link" />
        <origin rpy="0 0 0.0" xyz="0.0 0.0 0.0" />
    </joint>
    <link name="robotiq_simplified">
        <inertial>
            <origin rpy="0 0 0" xyz="8.625E-08 -4.6583E-06 0.03145" />
            <mass value="0.22652" />
            <inertia ixx="0.00020005" ixy="-4.2442E-10" ixz="-2.9069E-10" iyy="0.00017832" iyz="-3.4402E-08" izz="0.00013478" />
        </inertial>
        <collision>
            <origin rpy="0 0 0" xyz="0 0 0.045" />
            <geometry>
                <box size="0.035 0.145 0.09" />
            </geometry>
            <material name="RobotiqGrey">
                <color rgba="0.1 0.1 0.1 1" />
            </material>
        </collision>
        <collision>
            <origin rpy="0 0 0" xyz="0 0.055 0.08" />
            <geometry>
                <box size="0.035 0.03 0.16" />
            </geometry>
            <material name="RobotiqGrey">
                <color rgba="0.1 0.1 0.1 1" />
            </material>
        </collision>
        <collision>
            <origin rpy="0 0 0" xyz="0 -0.055 0.08" />
            <geometry>
                <box size="0.035 0.03 0.16" />
            </geometry>
            <material name="RobotiqGrey">
                <color rgba="0.1 0.1 0.1 1" />
            </material>
        </collision>
    </link>
    <joint name="robotiq_joint_simplified" type="fixed">
        <parent link="robotiq_coupler" />
        <child link="robotiq_simplified" />
        <origin rpy="0 0 0.0" xyz="0.0 0.0 0.0" />
    </joint>
    <link name="open_tip" />
    <joint name="open_tip_joint" type="fixed">
        <parent link="robotiq_coupler" />
        <child link="open_tip" />
        <origin rpy="0 0 1.5707963267948966" xyz="0 0 0.149" />
    </joint>
    <link name="closed_tip" />
    <joint name="closed_tip_joint" type="fixed">
        <parent link="robotiq_coupler" />
        <child link="closed_tip" />
        <origin rpy="0 0 1.5707963267948966" xyz="0 0 0.163" />
    </joint>
    <joint name="rq_connector_joint" type="fixed">
        <parent link="robotiq_coupler" />
        <child link="rq_connector" />
        <origin rpy="0 0 0" xyz="-0.06 0 0" />
    </joint>
    <link name="rq_connector">
        <visual>
            <origin rpy="0 0 0" xyz="0 0 0" />
            <geometry>
                <box size="0.02 0.02 0.04" />
            </geometry>
            <material name="White">
                <color rgba="1 1 1 1" />
            </material>
        </visual>
        <collision>
            <origin rpy="0 0 0" xyz="0 0 0" />
            <geometry>
                <box size="0.02 0.02 0.04" />
            </geometry>
            <material name="White">
                <color rgba="1 1 1 1" />
            </material>
        </collision>
        <inertial>
            <mass value="0.1" />
            <origin xyz="0 0 0" rpy="0 0 0" />
            <inertia ixx="0.03" iyy="0.03" izz="0.03" ixy="0.0" ixz="0.0" iyz="0.0" />
        </inertial>
    </link>
    <joint name="cursor_to_base" type="fixed">
        <parent link="cursor" />
        <child link="base_link" />
        <origin rpy="3.141592653589793 0.0 1.5707963267948966" xyz="0.0 0.0 0.0" />
    </joint>
    <!-- walls  -->
    <joint name="portal_to_wall" type="fixed">
        <parent link="portal" />
        <child link="wall" />
        <origin xyz="-0.98 0 0" />
    </joint>
    <link name="wall">
        <visual>
            <origin rpy="0 0 0" xyz="-0.05 0 1.5" />
            <geometry>
                <box size="0.1 4.24 3.0" />
            </geometry>
            <material name="White">
                <color rgba="1 1 1 1" />
            </material>
        </visual>
        <collision>
            <origin rpy="0 0 0" xyz="-0.05 0 1.5" />
            <geometry>
                <box size="0.1 4.24 3.0" />
            </geometry>
            <material name="White">
                <color rgba="1 1 1 1" />
            </material>
        </collision>
        <inertial>
            <mass value="0.1" />
            <origin xyz="0 0 0" rpy="0 0 0" />
            <inertia ixx="0.03" iyy="0.03" izz="0.03" ixy="0.0" ixz="0.0" iyz="0.0" />
        </inertial>
    </link>
    <!-- <joint name="wall_to_ec" type="fixed">
    <parent link="wall"/>
    <child link="electric_cabinet"/>
    <origin xyz="0 ${table_size_x*0.5} 0"/>
</joint>

<link name="electric_cabinet">
   <visual>
     <origin xyz="${0.5*ec_size_x} ${0.5*ec_size_y} ${0.5*ec_size_z}" rpy="0 0 0" />
     <geometry>
       <box size="${ec_size_x} ${ec_size_y} ${ec_size_z}" />
     </geometry>
     <material name="White">
       <color rgba="1 1 1 1"/>
     </material>
   </visual>
   <collision>
     <origin xyz="${0.5*ec_size_x} ${0.5*ec_size_y} ${0.5*ec_size_z}" rpy="0 0 0" />
     <geometry>
       <box size="${ec_size_x} ${ec_size_y} ${ec_size_z}" />
     </geometry>
     <material name="White">
       <color rgba="1 1 1 1"/>
     </material>
   </collision>
</link> -->
    <joint name="portal_to_floor" type="fixed">
        <parent link="portal" />
        <child link="floor" />
        <origin xyz="-0.98 0 0" />
    </joint>
    <link name="floor">
        <visual>
            <origin rpy="0 0 0" xyz="2.02 0 -0.005" />
            <geometry>
                <box size="6 6 0.81" />
            </geometry>
            <material name="White">
                <color rgba="1 1 1 0.1" />
            </material>
        </visual>
    </link>
    <!-- Screw driver -->
    <joint name="table_to_screwdriver_holder" type="fixed">
        <parent link="table" />
        <child link="screwdriver_holder" />
        <origin xyz="0.2 -0.05 1.5" />
    </joint>
    <link name="screwdriver_holder">
        <visual>
            <origin rpy="0 0 0" xyz="0 0 0" />
            <geometry>
                <box size="0.4 0.2 1.5" />
            </geometry>
            <material name="White">
                <color rgba="1 1 1 1" />
            </material>
        </visual>
        <collision>
            <origin rpy="0 0 0" xyz="0 0 0" />
            <geometry>
                <box size="0.2 0.2 2" />
            </geometry>
            <material name="White">
                <color rgba="1 1 1 1" />
            </material>
        </collision>
        <inertial>
            <mass value="0.1" />
            <origin xyz="0 0 0" rpy="0 0 0" />
            <inertia ixx="0.03" iyy="0.03" izz="0.03" ixy="0.0" ixz="0.0" iyz="0.0" />
        </inertial>
    </link>
    <!-- Virtual Wall -->
    <joint name="virtual_wall_1_joint" type="fixed">
        <parent link="guide_fixed" />
        <child link="virtual_wall_1" />
        <origin xyz="0 0 0.0" />
    </joint>
    <link name="virtual_wall_1">
        <collision>
            <origin rpy="0 0 0" xyz="-0.5 1.0 0.0005" />
            <geometry>
                <box size="1.58 2.24 0.001" />
            </geometry>
            <material name="VirtualWallColor">
                <color rgba="0.1 0.1 0.1 0.1" />
            </material>
        </collision>
        <inertial>
            <mass value="0.1" />
            <origin xyz="0 0 0" rpy="0 0 0" />
            <inertia ixx="0.03" iyy="0.03" izz="0.03" ixy="0.0" ixz="0.0" iyz="0.0" />
        </inertial>
    </link>
    <joint name="virtual_wall_2_joint" type="fixed">
        <parent link="world" />
        <child link="virtual_wall_2" />
        <origin xyz="1.7000000000000002 0 0.0" />
    </joint>
    <link name="virtual_wall_2">
        <collision>
            <origin rpy="0 0 0" xyz="0.0005 0 1" />
            <geometry>
                <box size="0.001 2.24 2" />
            </geometry>
            <material name="VirtualWallColor2">
                <color rgba="0.1 0.1 0.1 0.1" />
            </material>
        </collision>
        <inertial>
            <mass value="0.1" />
            <origin xyz="0 0 0" rpy="0 0 0" />
            <inertia ixx="0.03" iyy="0.03" izz="0.03" ixy="0.0" ixz="0.0" iyz="0.0" />
        </inertial>
    </link>
    <joint name="base_working_table" type="fixed">
        <parent link="world" />
        <child link="working_table_with_wheels_link" />
        <origin rpy="0 0 -1.57079632679" xyz="1.5 -1.5 0" />
    </joint>
    <link name="working_table_with_wheels_link">
        <inertial>
            <origin rpy="0 0 0" xyz="0.2503 0.50105 0.67682" />
            <mass value="37.726" />
            <inertia ixx="6.0362" ixy="0.012989" ixz="0.0016097" iyy="2.7997" iyz="-0.0022709" izz="5.507" />
        </inertial>
        <visual>
            <origin rpy="0 0 0" xyz="0 0 0" />
            <geometry>
                <mesh filename="package://hrc_case_study_descriptions/mesh/working_table_with_wheels.STL" scale="0.001 0.001 0.001" />
            </geometry>
            <material name="">
                <color rgba="1 1 1 1" />
            </material>
        </visual>
        <collision>
            <origin rpy="0 0 0" xyz="0 0 0" />
            <geometry>
                <mesh filename="package://hrc_case_study_descriptions/mesh/working_table_with_wheels.STL" scale="0.001 0.001 0.001" />
            </geometry>
        </collision>
    </link>
    <joint name="working_table_top" type="fixed">
        <origin rpy="0 0 0" xyz="-0.01757 -0.016679 1.1096" />
        <parent link="working_table_with_wheels_link" />
        <child link="working_table_top_link" />
        <axis xyz="0 0 0" />
    </joint>
    <link name="working_table_top_link" />
    <!-- Util link for user bottles pack -->
    <joint name="user_bottles_util" type="fixed">
        <parent link="working_table_top_link" />
        <child link="user_bottles_link" />
        <origin xyz="0.2 0.4 0.0" />
    </joint>
    <link name="user_bottles_link" />
    <!-- Call the pack macro in order to create the bottles pack with the config specified in the yaml -->
    <!-- <xacro:pack parent_link_name="user_bottles_link" pack_name="user_pack" yaml_file_name="${user_pack_yaml_file_name}" color="0.79216 0.81961 0.93333 1"/> -->
    <!-- Util link for robot bottles pack -->
    <joint name="robot_bottles_util" type="fixed">
        <parent link="table" />
        <child link="robot_bottles_link" />
        <origin xyz="-0.6 0.1 0.05" />
    </joint>
    <link name="robot_bottles_link" />
    <!-- <xacro:pack parent_link_name="robot_bottles_link" pack_name="robot_pack" yaml_file_name="${robot_pack_yaml_file_name}" color="0.79216 0.81961 0.93333 1"/> -->
    <!-- Util link for both agents bottles pack -->
    <joint name="both_agents_bottles_util" type="fixed">
        <parent link="rail" />
        <child link="both_agents_bottles_link" />
        <origin xyz="-0.15 1.4 0" />
    </joint>
    <link name="both_agents_bottles_link" />
    <!-- <xacro:pack parent_link_name="both_agents_bottles_link" pack_name="both_agents_pack" yaml_file_name="${both_agents_pack_yaml_file_name}" color="0.93333333 0.89019608 0.79607843  1"/> -->
    <joint name="robot_box" type="fixed">
        <parent link="rail" />
        <child link="robot_box_link" />
        <origin rpy="0 0 1.57079632679" xyz="0.15 0.7 0" />
    </joint>
    <link name="robot_box_link">
        <inertial>
            <origin rpy="0 0 0" xyz="0.198 0.149 0.13085" />
            <mass value="3.3211" />
            <inertia ixx="0.086235" ixy="2.3962E-17" ixz="-9.9823E-17" iyy="0.12255" iyz="-3.1652E-17" izz="0.13198" />
        </inertial>
        <visual>
            <origin rpy="0 0 0" xyz="0 0 0" />
            <geometry>
                <mesh filename="package://hrc_case_study_descriptions/mesh/box.STL" scale="0.001 0.001 0.001" />
            </geometry>
            <material name="">
                <color rgba="1 0.50196 0.50196 1" />
            </material>
        </visual>
        <collision>
            <origin rpy="0 0 0" xyz="0 0 0" />
            <geometry>
                <mesh filename="package://hrc_case_study_descriptions/mesh/box.STL" scale="0.001 0.001 0.001" />
            </geometry>
        </collision>
    </link>
    <joint name="human_box" type="fixed">
        <parent link="rail" />
        <child link="human_box_link" />
        <origin rpy="0 0 1.57079632679" xyz="0.15 2.7 0" />
    </joint>
    <link name="human_box_link">
        <inertial>
            <origin rpy="0 0 0" xyz="0.198 0.149 0.13085" />
            <mass value="3.3211" />
            <inertia ixx="0.086235" ixy="2.3962E-17" ixz="-9.9823E-17" iyy="0.12255" iyz="-3.1652E-17" izz="0.13198" />
        </inertial>
        <visual>
            <origin rpy="0 0 0" xyz="0 0 0" />
            <geometry>
                <mesh filename="package://hrc_case_study_descriptions/mesh/box.STL" scale="0.001 0.001 0.001" />
            </geometry>
            <material name="">
                <color rgba="1 0.50196 0.50196 1" />
            </material>
        </visual>
        <collision>
            <origin rpy="0 0 0" xyz="0 0 0" />
            <geometry>
                <mesh filename="package://hrc_case_study_descriptions/mesh/box.STL" scale="0.001 0.001 0.001" />
            </geometry>
        </collision>
    </link>
    <!--DO NOT DELETE -->
    <gazebo>
        <plugin name="gazebo_ros_control">
            <robotNamespace>/</robotNamespace>
        </plugin>
    </gazebo>
</robot>
<!-- <xacro:macro name="robot_description" params=
 "kinematics_config:=''$(find sharework_cembre_description)/config/cembre_ur10e.yaml'
 transmission_hw_interface:=hardware_interface/PositionJointInterface "/>

 kinematics_parameters_file="$(arg kinematics_config)"
 transmission_hw_interface="$(arg transmission_hw_interface)" -->
